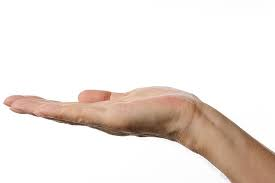palm: (110, 87, 183, 119)
